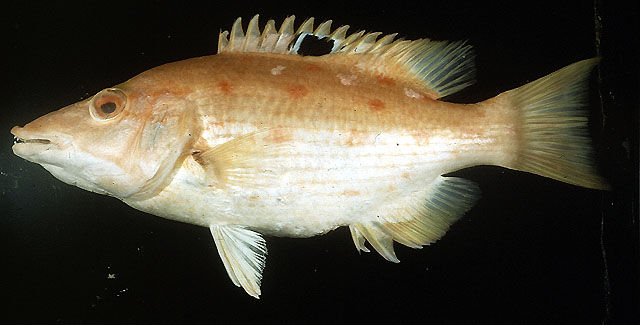fish: (11, 15, 599, 299)
